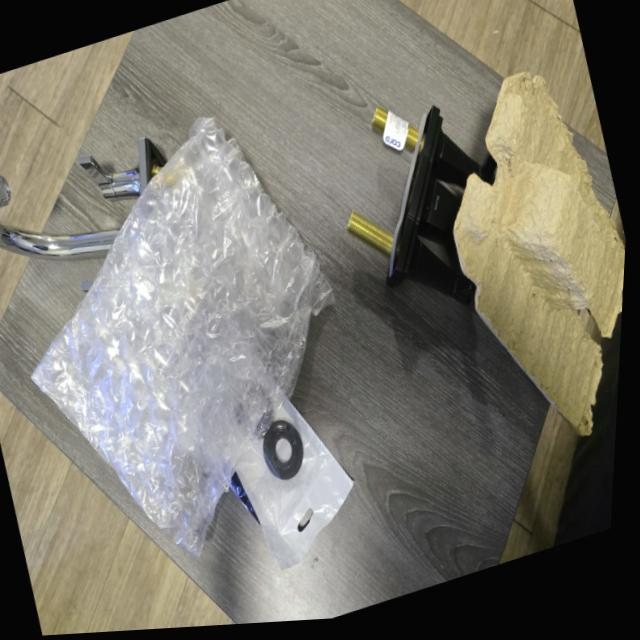10o: (77, 138, 165, 199), (0, 223, 116, 261), (0, 176, 9, 207)
13o: (235, 399, 352, 569)
9o: (347, 106, 495, 304), (371, 106, 388, 135)
